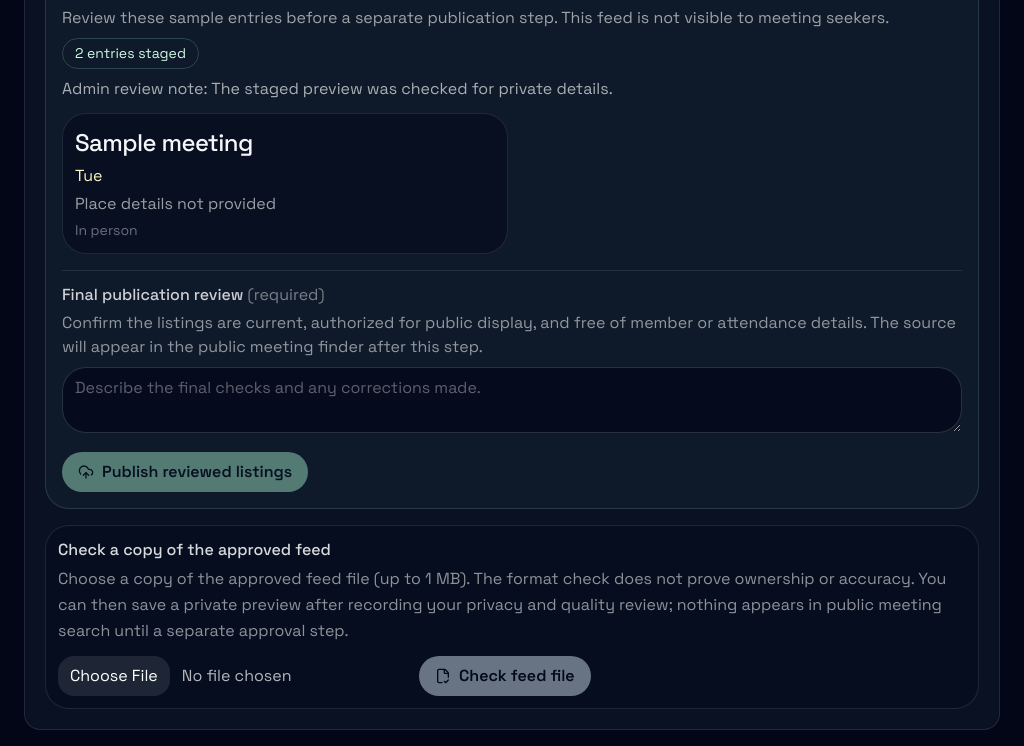
Test: RecoveryMeetingSourcesPage › requires a final review note and publishes the staged revision through a separate approval step
This screenshot has width=1024, height=746.
(page scrolled)
Check: the button "Publish reviewed listings" is disabled, box [62,452,308,492]
Type "Confirmed authorization and checked meeting names, locations, links, and records for member details." into the text box labelled "Final publication review (required)" at (512, 400), box [62,367,962,433]
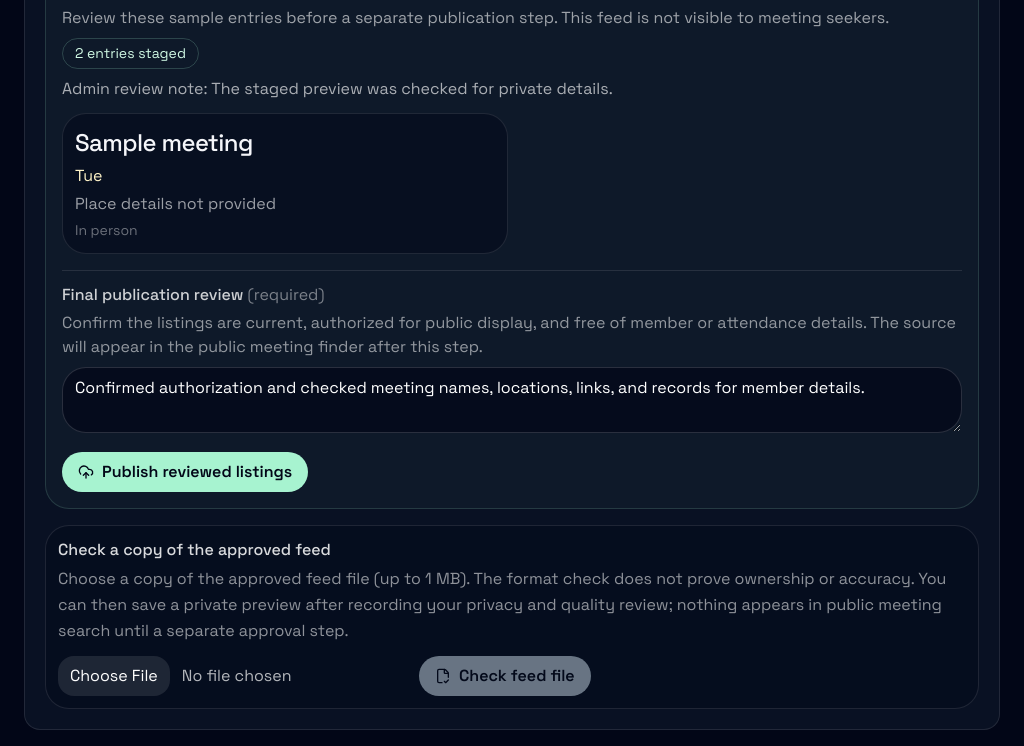
Click the button "Publish reviewed listings" at (185, 472), box [62,452,308,492]
(page scrolled)
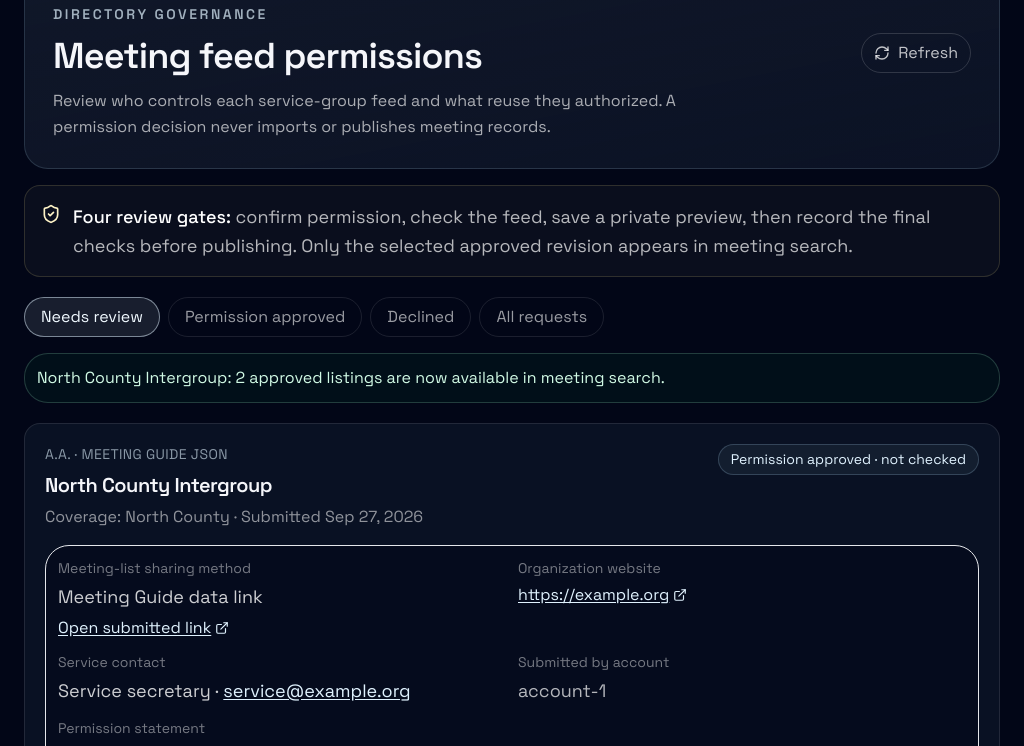
Check: the message shows "2 approved listings are now available", box [37,367,665,388]
